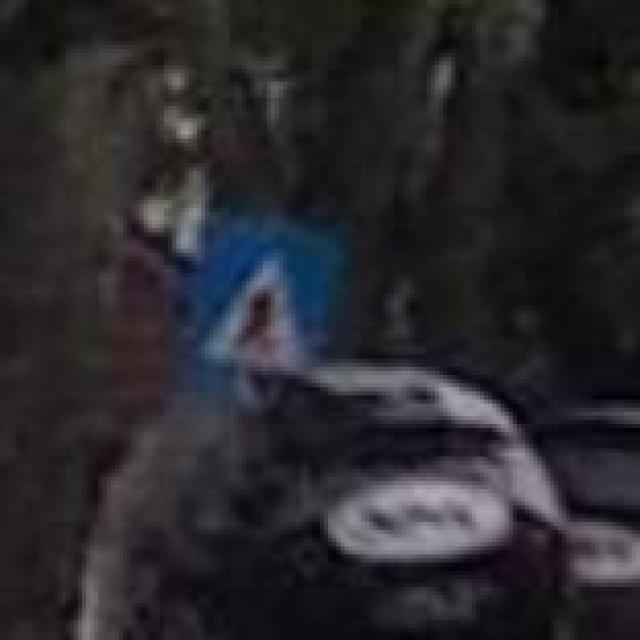traffic sign: (181, 216, 333, 375)
